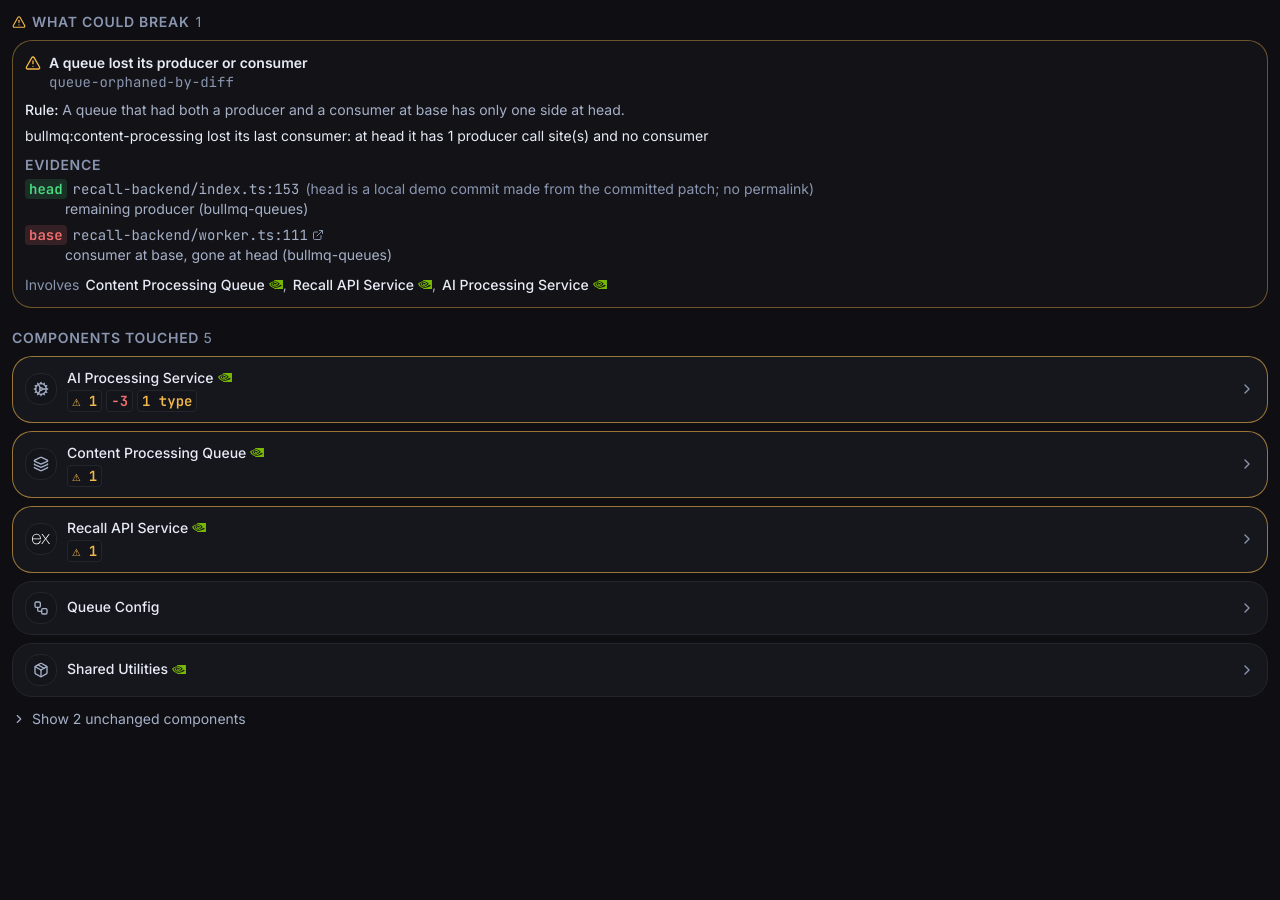
Test: phone list › a row expands into files and declarations
Click the button "AI Processing Service ⚠ 1 −3 1 type": point(41, 389) [13, 357, 1267, 422]
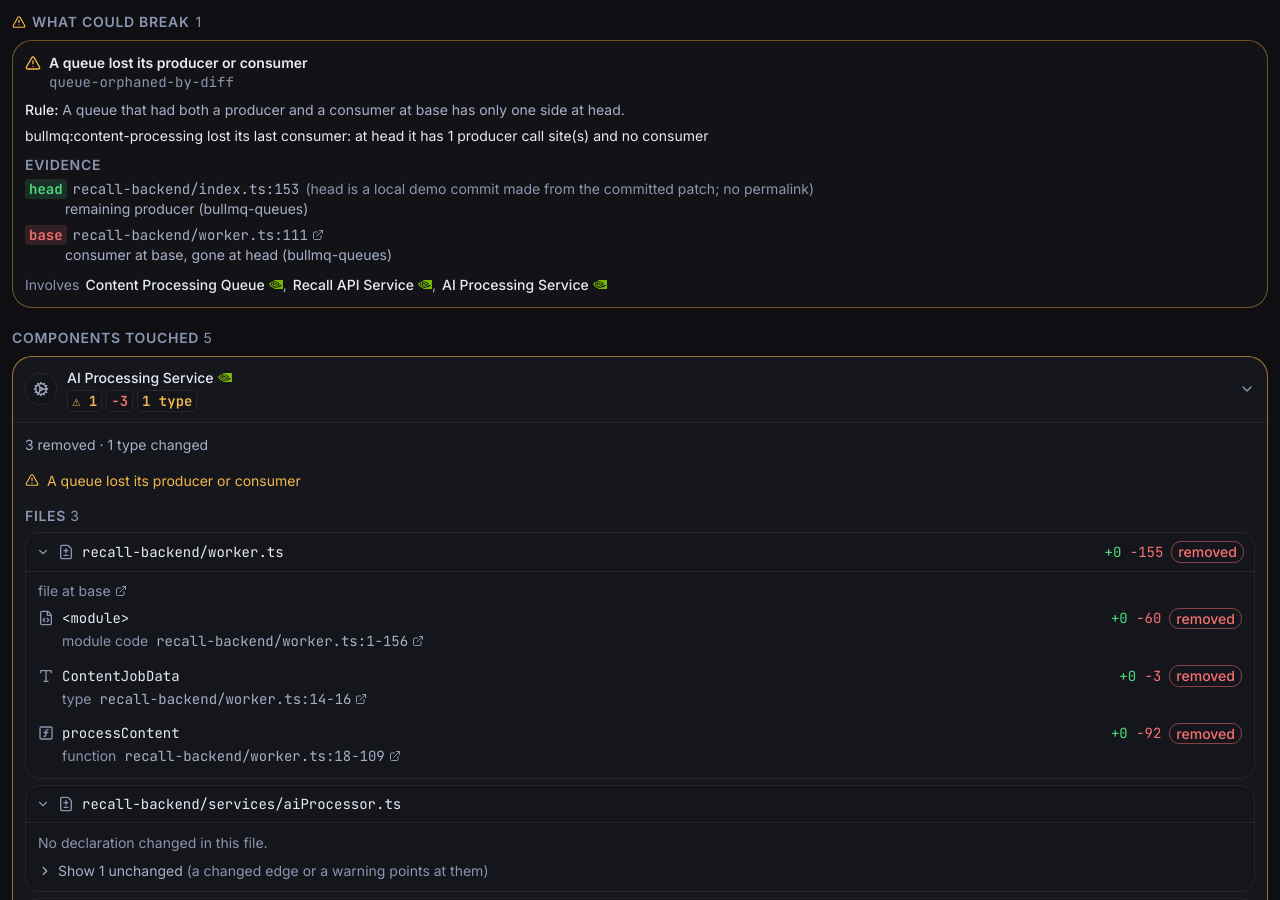
expect the number of list items with test id "declaration" is 3: met, box [30, 602, 1250, 657]; [30, 659, 1250, 714]; [30, 716, 1250, 772]
